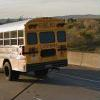Bus: (3, 15, 71, 79)
